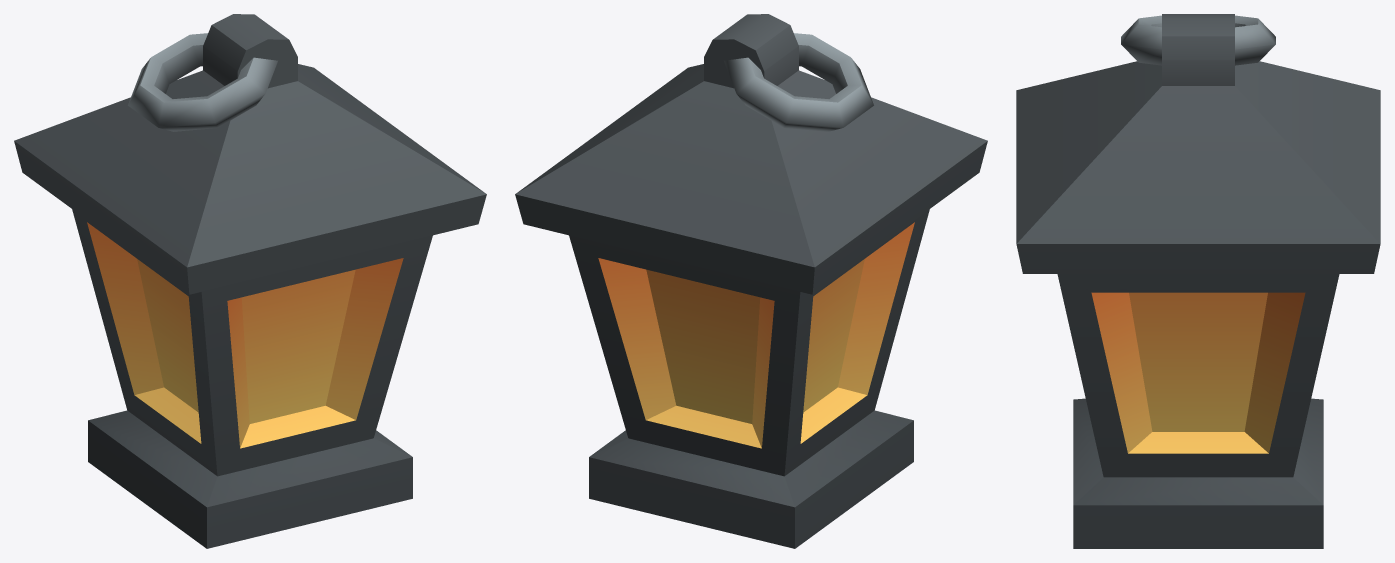
The model's file is cc0-lantern-standing-lod1.glb.
The picture shows the model from 3 angles, left to right: view 1: azimuth 30°, elevation 25°; view 2: azimuth 150°, elevation 25°; view 3: azimuth 270°, elevation 25°; orthographic projection. The views are drawn at different scales.
Parts seen in each view (by area): view 1: part_0; view 2: part_0; view 3: part_0.
Part boxes in pixels (left/top/right/bottom): part_0: left=14, top=14, right=486, bottom=548; part_0: left=515, top=14, right=987, bottom=548; part_0: left=1016, top=14, right=1380, bottom=548.
Size of the model in its own units: 0.64 by 0.9252 by 0.64.
Materials: 1 (1 with a texture image).
